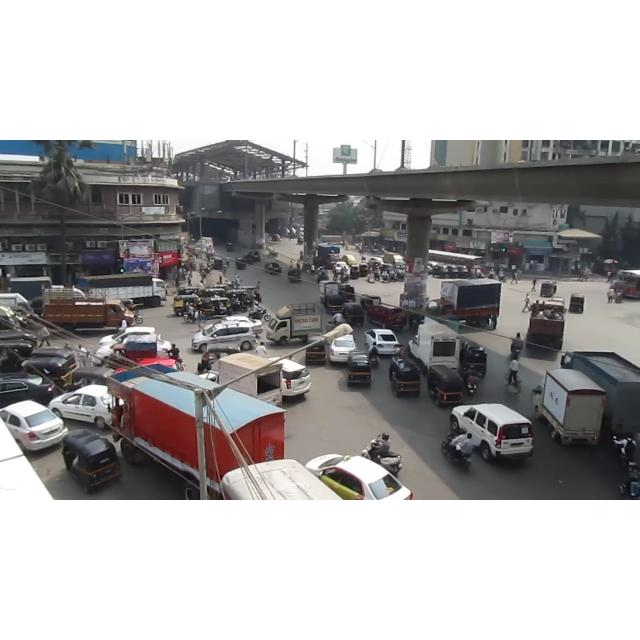auto: (59, 430, 127, 490), (390, 354, 422, 398), (432, 367, 468, 402), (464, 339, 488, 379), (340, 302, 368, 330), (350, 356, 372, 389), (289, 267, 307, 287), (541, 279, 559, 297), (570, 295, 586, 315)
car: (305, 454, 413, 500), (452, 401, 536, 459), (0, 401, 68, 451), (49, 385, 111, 429), (191, 322, 257, 352), (0, 371, 54, 406), (95, 341, 175, 363), (269, 358, 311, 398), (99, 326, 157, 346), (365, 329, 401, 355), (328, 335, 356, 363), (243, 251, 261, 263), (264, 262, 282, 274)
truck: (106, 360, 285, 494), (560, 351, 640, 435), (531, 369, 606, 445), (41, 292, 135, 332), (429, 279, 506, 327), (213, 354, 283, 406), (77, 273, 167, 307), (409, 315, 461, 370), (268, 304, 324, 346), (527, 301, 567, 353), (4, 277, 67, 303), (314, 243, 342, 269), (320, 277, 342, 301), (385, 249, 409, 268)
